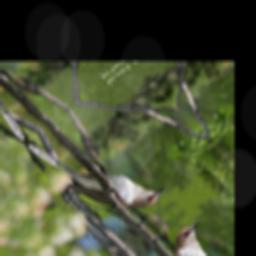Cuckoo: (25, 103, 171, 235)
